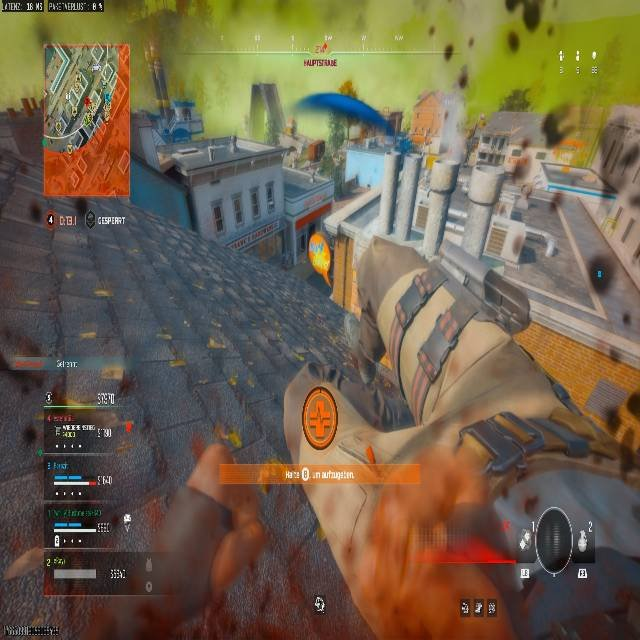head: (598, 106, 639, 150)
player: (592, 102, 639, 325)
